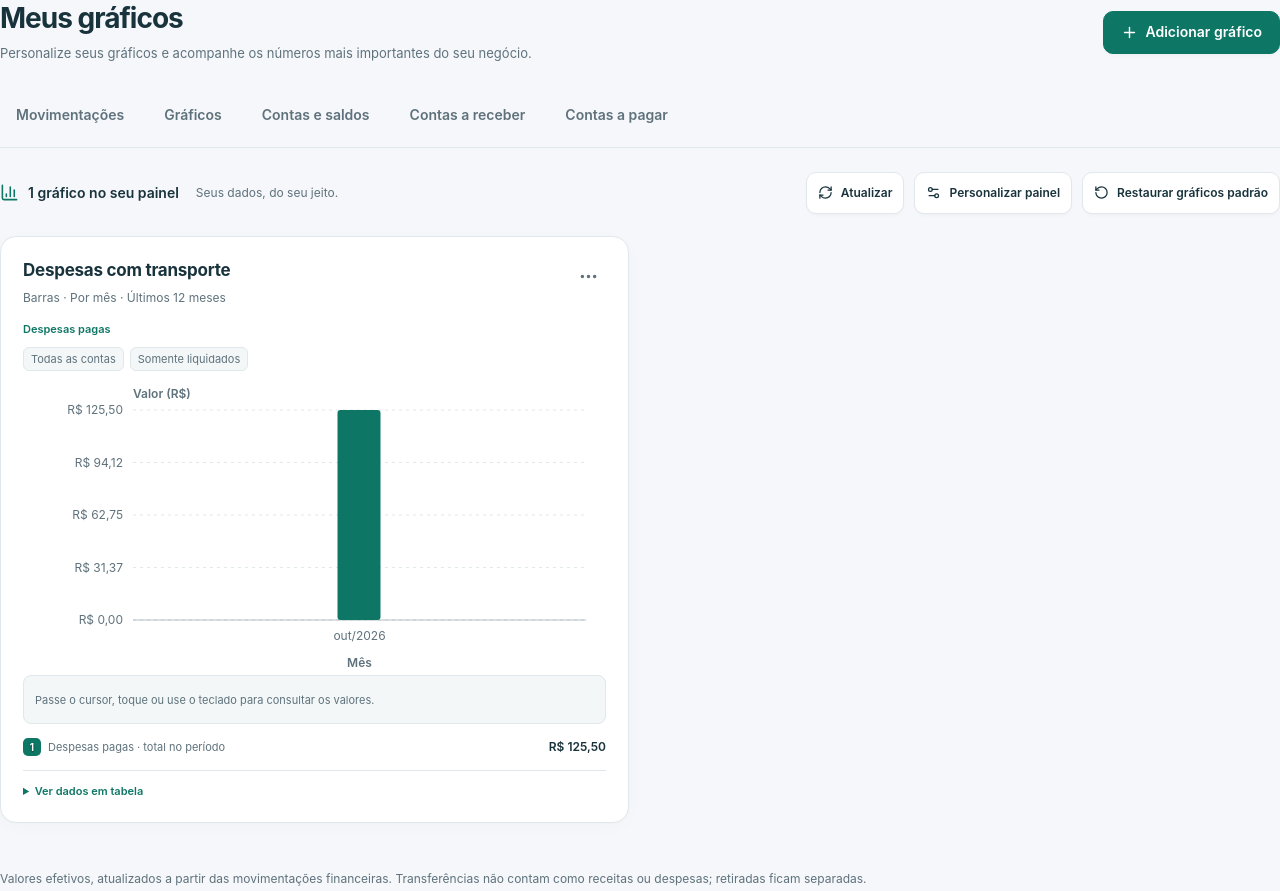
Test case: saved chart panel › duplicates to a distinct saved chart and opens its editor
Click the button named "Ações de Despesas com transporte". click: coordinates (588, 277)
box: [570, 259, 606, 295]
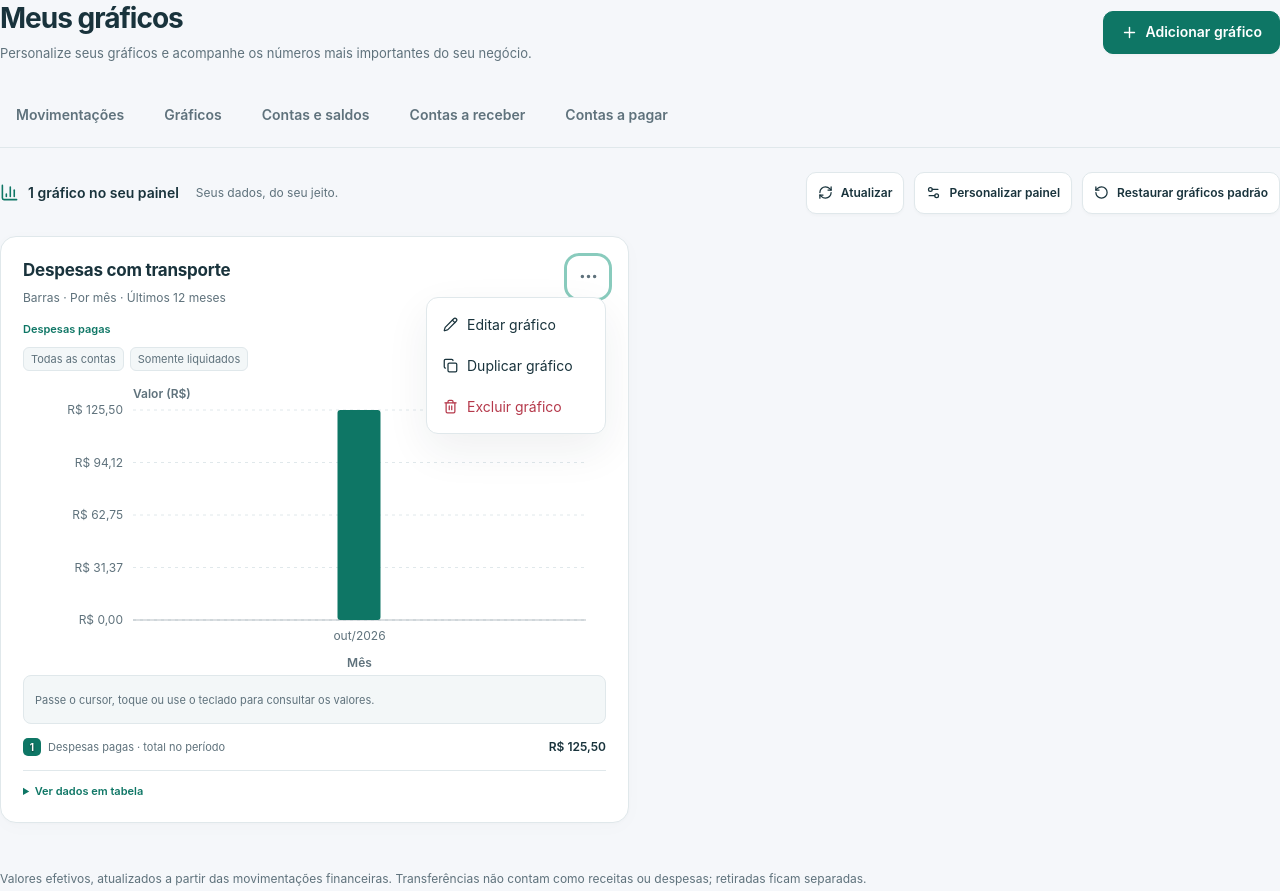
Click the button "Duplicar gráfico". click: coordinates (516, 365)
box: [433, 345, 599, 386]
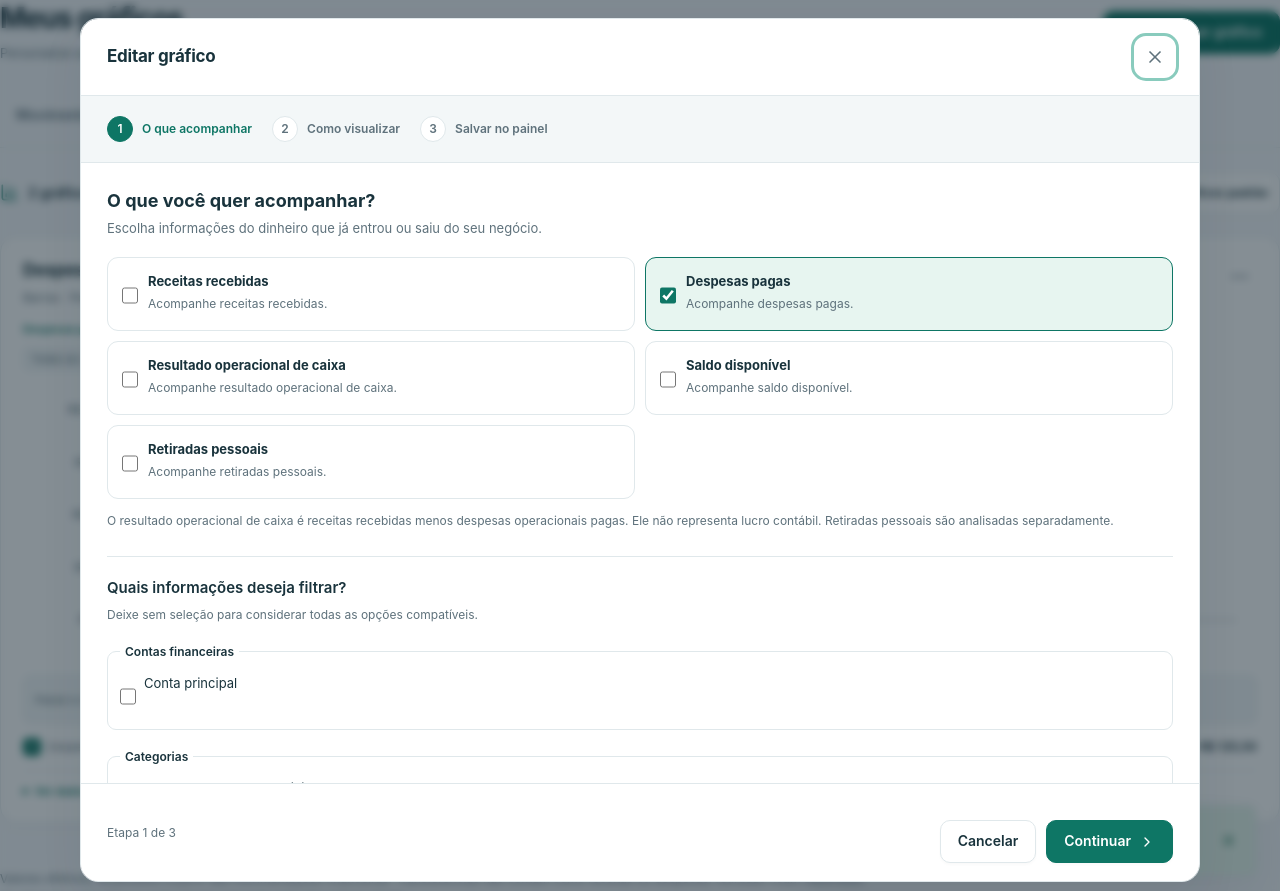
Expected: the dialog "Editar gráfico" is shown
